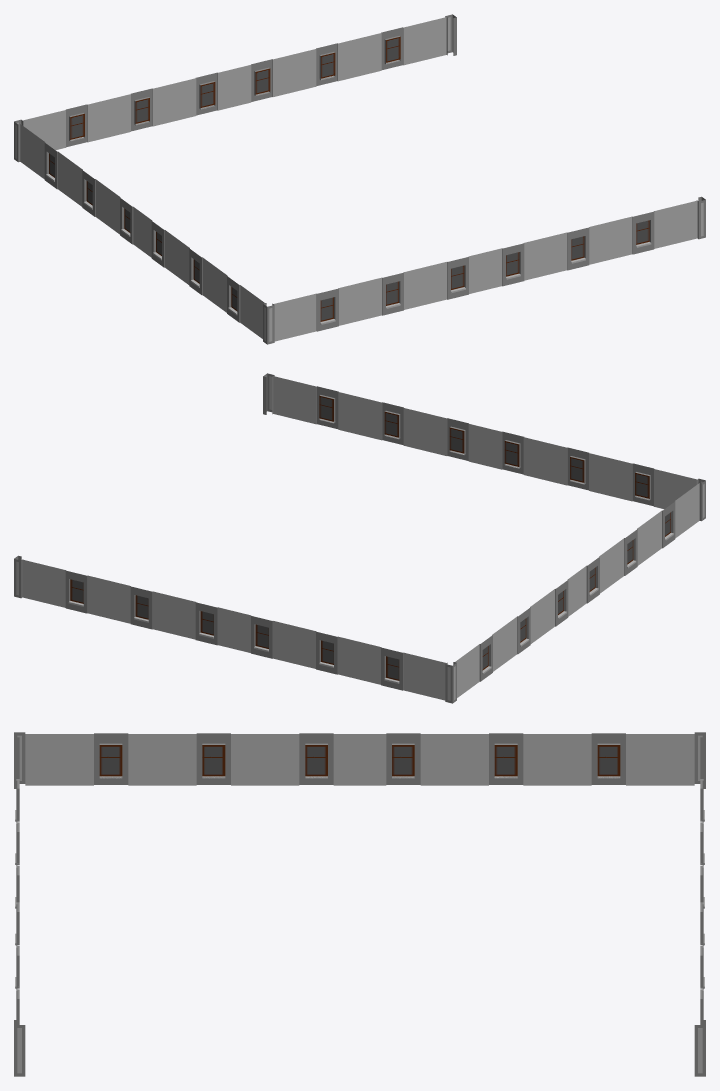
Rendered from BuildingBig4_3.fbx.
3 views of the same model, one above another, from view 1: azimuth 30°, elevation 25°; view 2: azimuth 150°, elevation 25°; view 3: azimuth 270°, elevation 25° (orthographic). The views are drawn at different scales.
Visible parts, largest first — view 1: BuildingBig4_3; view 2: BuildingBig4_3; view 3: BuildingBig4_3.
Part boxes in pixels (x1,y1,x2,y2): BuildingBig4_3: [14, 14, 705, 344]; BuildingBig4_3: [14, 373, 705, 703]; BuildingBig4_3: [14, 732, 705, 1076].
Size of the model in its own units: 6060 by 500 by 6060.
